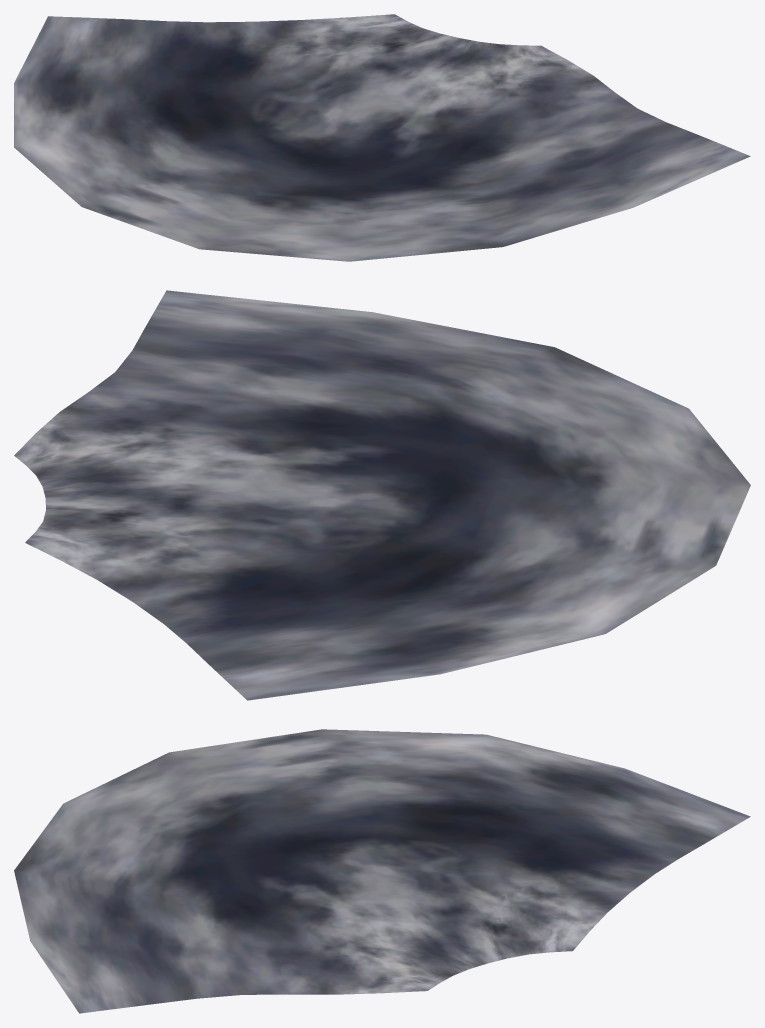
The model's file is CB_NEWPLAYSURFACE_CB_WATERFALLS10.fbx.
3 views of the same model, one above another, from view 1: azimuth 30°, elevation 25°; view 2: azimuth 150°, elevation 25°; view 3: azimuth 270°, elevation 25° (orthographic). The views are drawn at different scales.
Visible parts, largest first — view 1: CB_NEWPLAYSURFACE_CB_WATERFALLS10; view 2: CB_NEWPLAYSURFACE_CB_WATERFALLS10; view 3: CB_NEWPLAYSURFACE_CB_WATERFALLS10.
Boxes of the visible parts, bbox=[...] form: CB_NEWPLAYSURFACE_CB_WATERFALLS10: bbox=[14, 14, 750, 261]; CB_NEWPLAYSURFACE_CB_WATERFALLS10: bbox=[14, 290, 750, 700]; CB_NEWPLAYSURFACE_CB_WATERFALLS10: bbox=[14, 729, 750, 1013].
Size of the model in its own units: 106076 by 1139 by 116180.
Materials: 1 (1 with a texture image).
